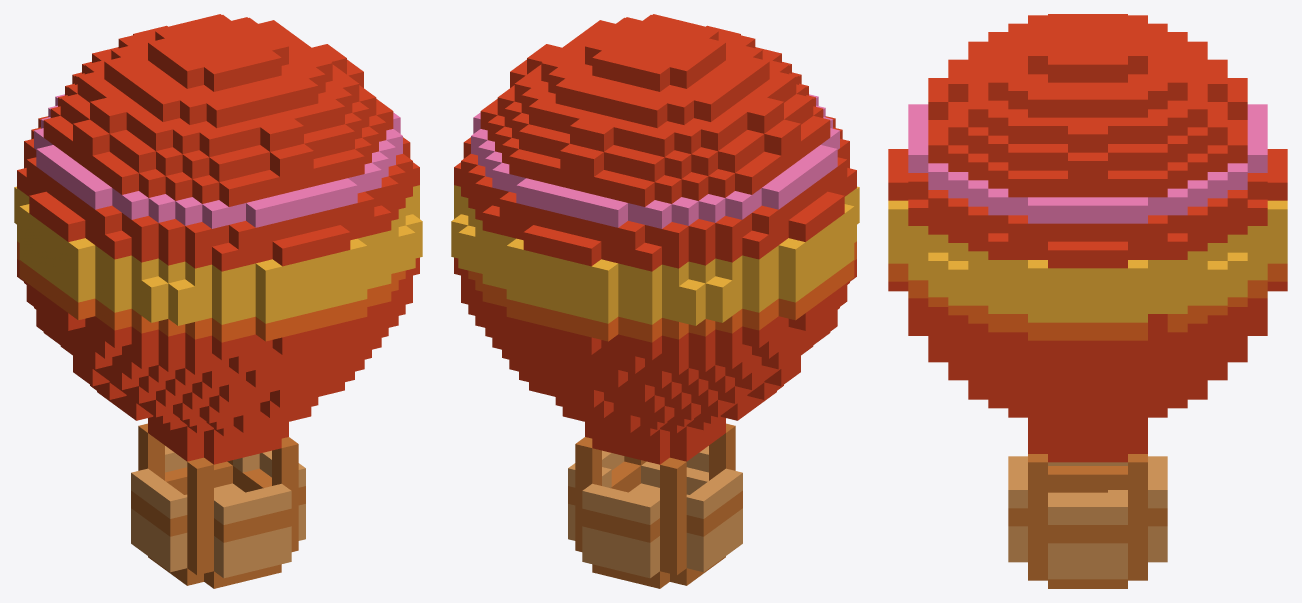
Rendered from hot_air_balloon.glb.
3 views of the same model, side by side, from view 1: azimuth 30°, elevation 25°; view 2: azimuth 150°, elevation 25°; view 3: azimuth 270°, elevation 25° (orthographic).
Parts seen in each view (by area): view 1: hot_air_balloon.vox; view 2: hot_air_balloon.vox; view 3: hot_air_balloon.vox.
Part boxes in pixels (x1,y1,x2,y2): hot_air_balloon.vox: (14,14,422,588); hot_air_balloon.vox: (451,14,859,588); hot_air_balloon.vox: (888,14,1287,588).
Bounding box in the file's own units: 2 × 2.9 × 2.
Materials: 1 (1 with a texture image).
